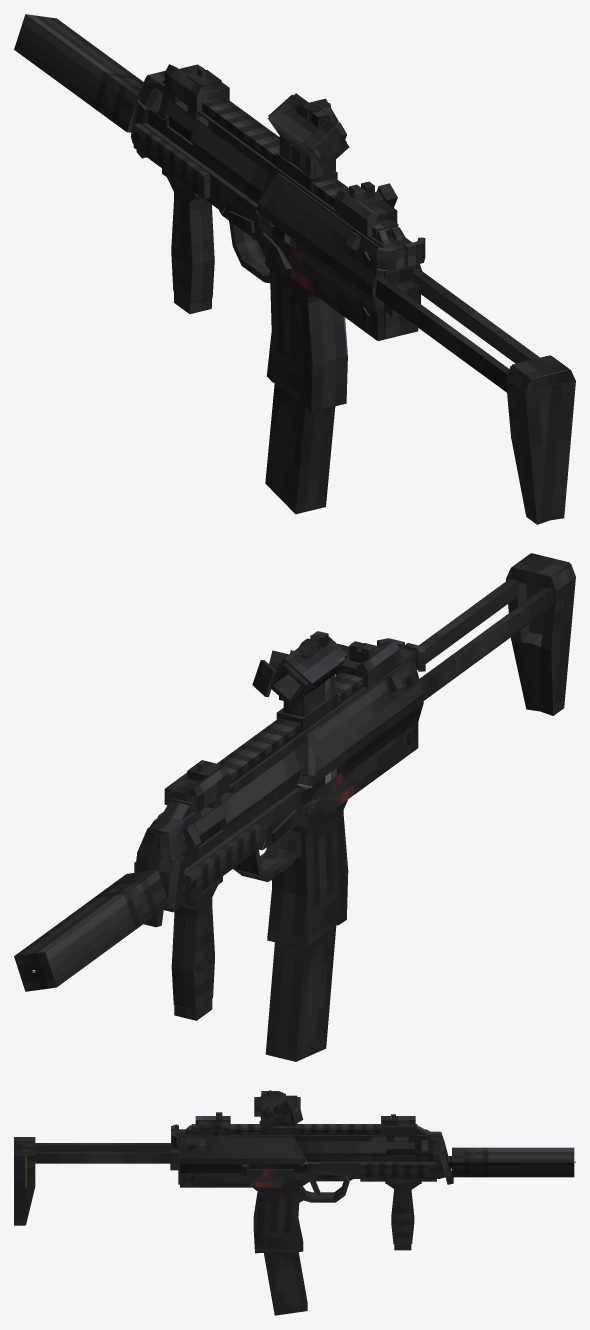
The model's file is mp7a2devgru.fbx.
3 views of the same model, one above another, from view 1: azimuth 30°, elevation 25°; view 2: azimuth 150°, elevation 25°; view 3: azimuth 270°, elevation 25° (orthographic). The views are drawn at different scales.
Parts seen in each view (by area): view 1: gun, magazine; view 2: gun, magazine; view 3: gun, magazine.
Part boxes in pixels (<box>): gun: <box>14,14,575,524</box>; magazine: <box>265,376,335,514</box>; gun: <box>14,553,575,1020</box>; magazine: <box>265,918,337,1061</box>; gun: <box>14,1090,574,1253</box>; magazine: <box>264,1248,307,1315</box>.
Size of the model in its own units: 42.35 by 239 by 554.
